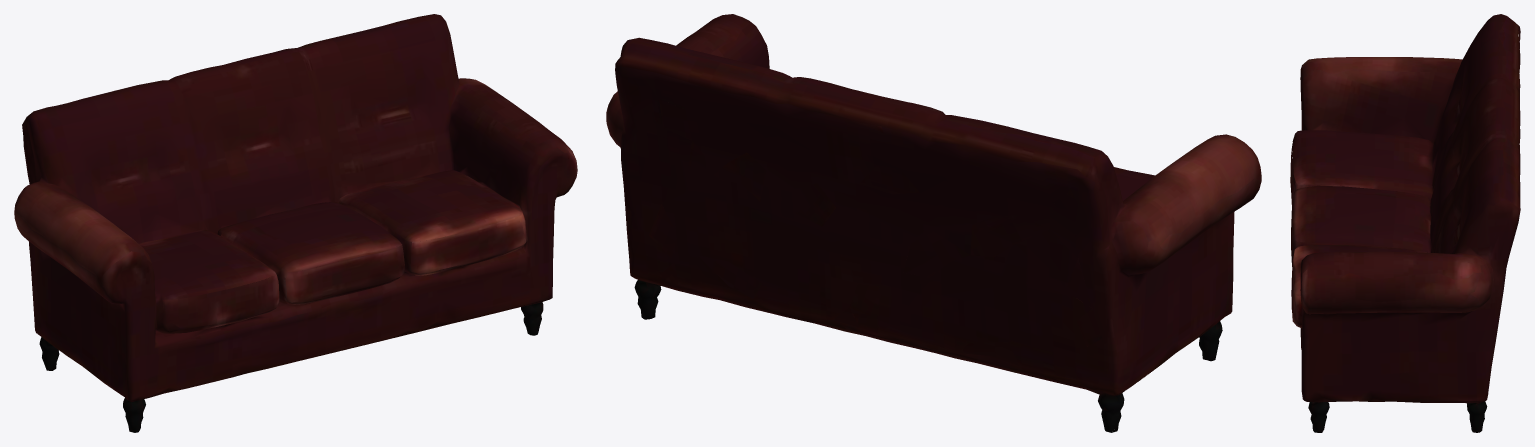
File: sofa.glb
3 renders of one model, left to right at view 1: azimuth 30°, elevation 25°; view 2: azimuth 150°, elevation 25°; view 3: azimuth 270°, elevation 25°, orthographic. The views are drawn at different scales.
Parts seen in each view (by area): view 1: geometry_0; view 2: geometry_0; view 3: geometry_0.
Part boxes in pixels (left/top/right/bottom): geometry_0: left=14, top=14, right=577, bottom=432; geometry_0: left=606, top=14, right=1261, bottom=432; geometry_0: left=1290, top=14, right=1520, bottom=432.
Size of the model in its own units: 1.8 by 0.9 by 0.8002.
Materials: 1 (1 with a texture image).
